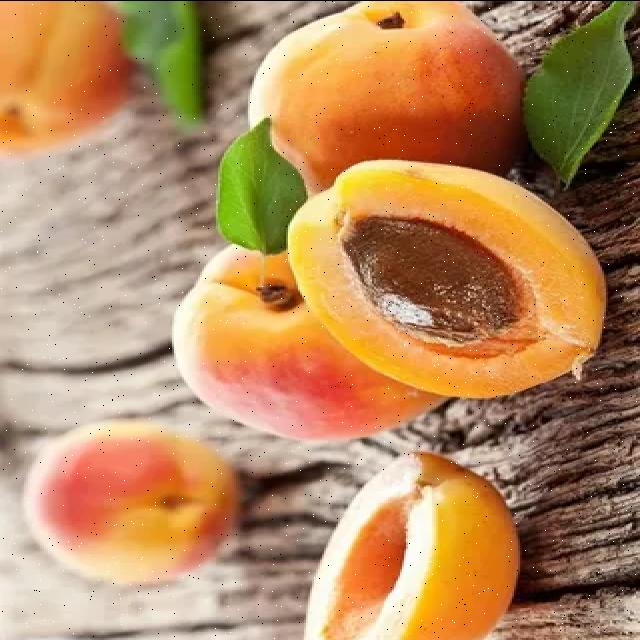Cekirdek: (342, 217, 516, 340)
Yaprak: (524, 1, 634, 186), (218, 120, 306, 253)
